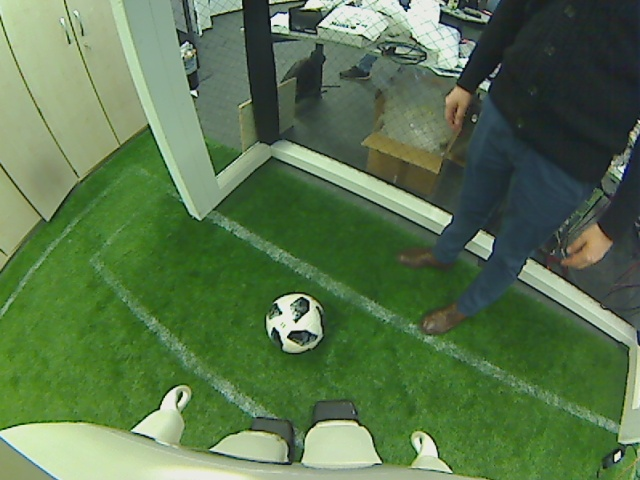ball: (263, 291, 326, 353)
